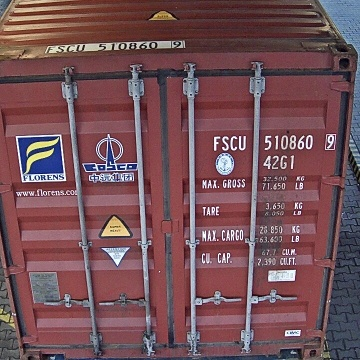serial_id: (214, 134, 336, 150)
